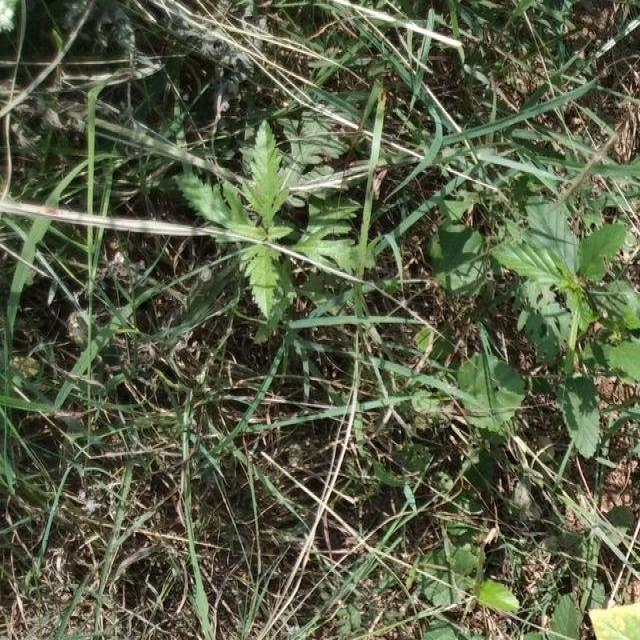weed: (174, 145, 370, 340), (498, 207, 640, 443), (390, 321, 511, 487)
